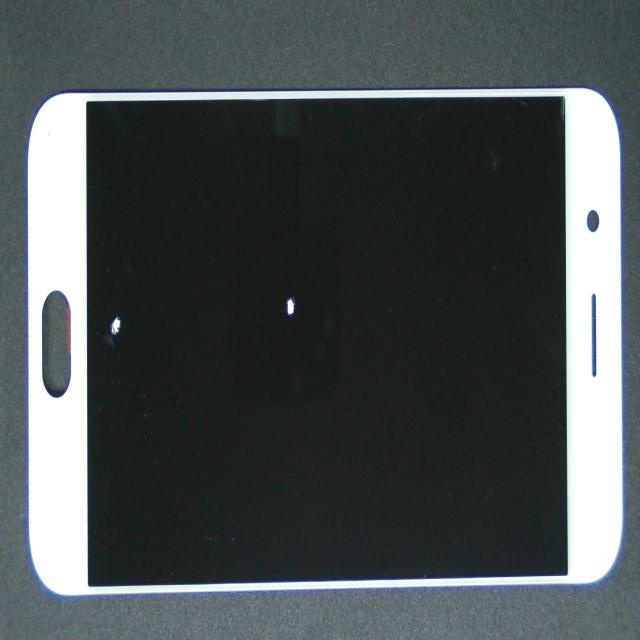stain: (173, 180, 467, 448), (52, 116, 161, 473)
